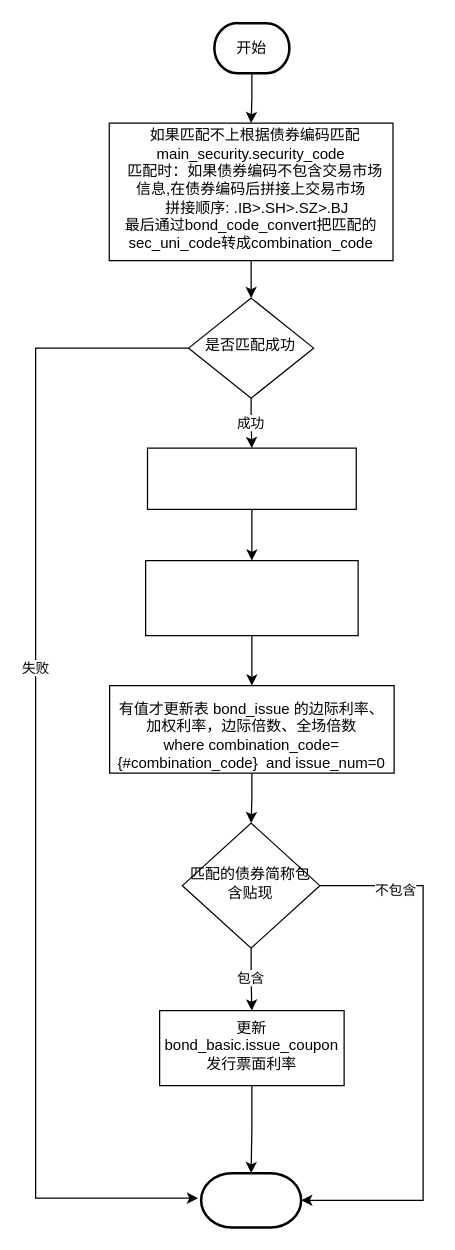
The diagram is 455 pixels wide and 1250 high, and some of its shapes have lost their labels. Each missing label, with the centre of its shape:
混合式同时有加权利率和边际利率，其它三种格式只有一个利率 映射到表的边际利率，边际倍数、全场倍数对应赋值: pixel 251 597
票面利率取值规则：优先取加权利率，没有值再取边际利率: pixel 251 478
结束: pixel 250 1199
